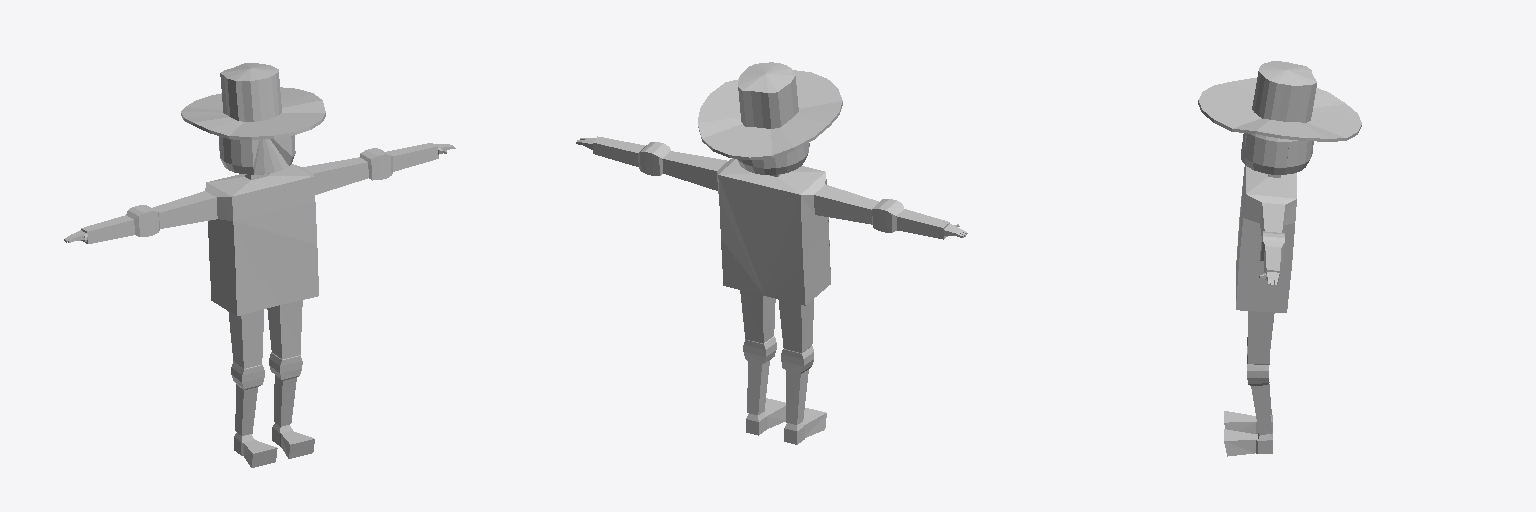
The model's file is sheriff.obj.
The picture shows the model from 3 angles: view 1: azimuth 30°, elevation 25°; view 2: azimuth 150°, elevation 25°; view 3: azimuth 270°, elevation 25°; orthographic projection.
Visible parts, largest first — view 1: sheriff2; view 2: sheriff2; view 3: sheriff2.
Boxes of the visible parts, box(x1,y1,x2,y2) form: sheriff2: box(64, 63, 455, 467); sheriff2: box(576, 62, 967, 444); sheriff2: box(1198, 61, 1361, 456).
Size of the model in its own units: 8.02 by 7.34 by 2.94.